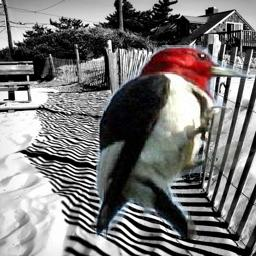Woodpecker: (92, 45, 255, 239)
